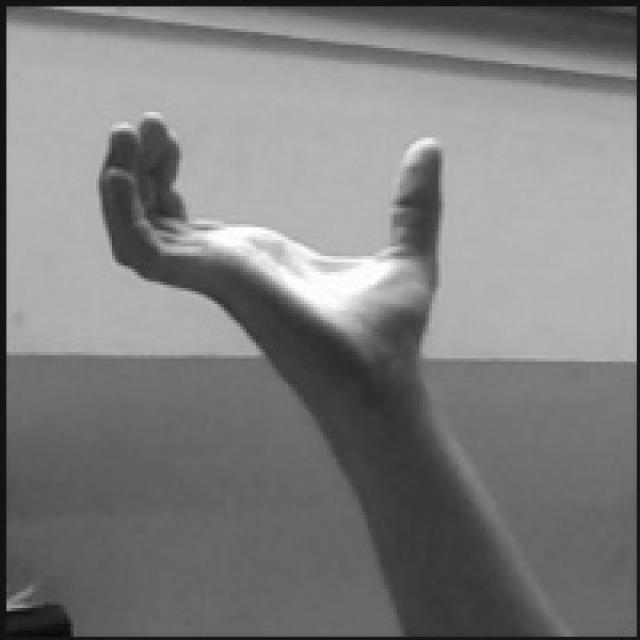space: (92, 109, 454, 364)
